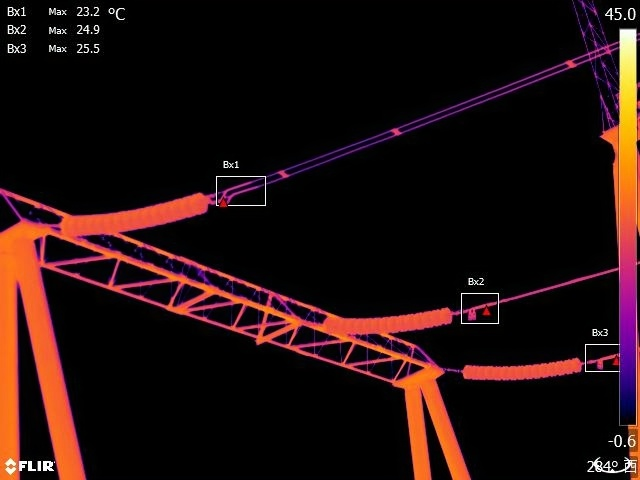clamp: (216, 177, 234, 207), (593, 353, 608, 377), (465, 299, 476, 321)
insulator: (58, 184, 212, 242), (317, 302, 460, 342), (456, 350, 585, 387)
